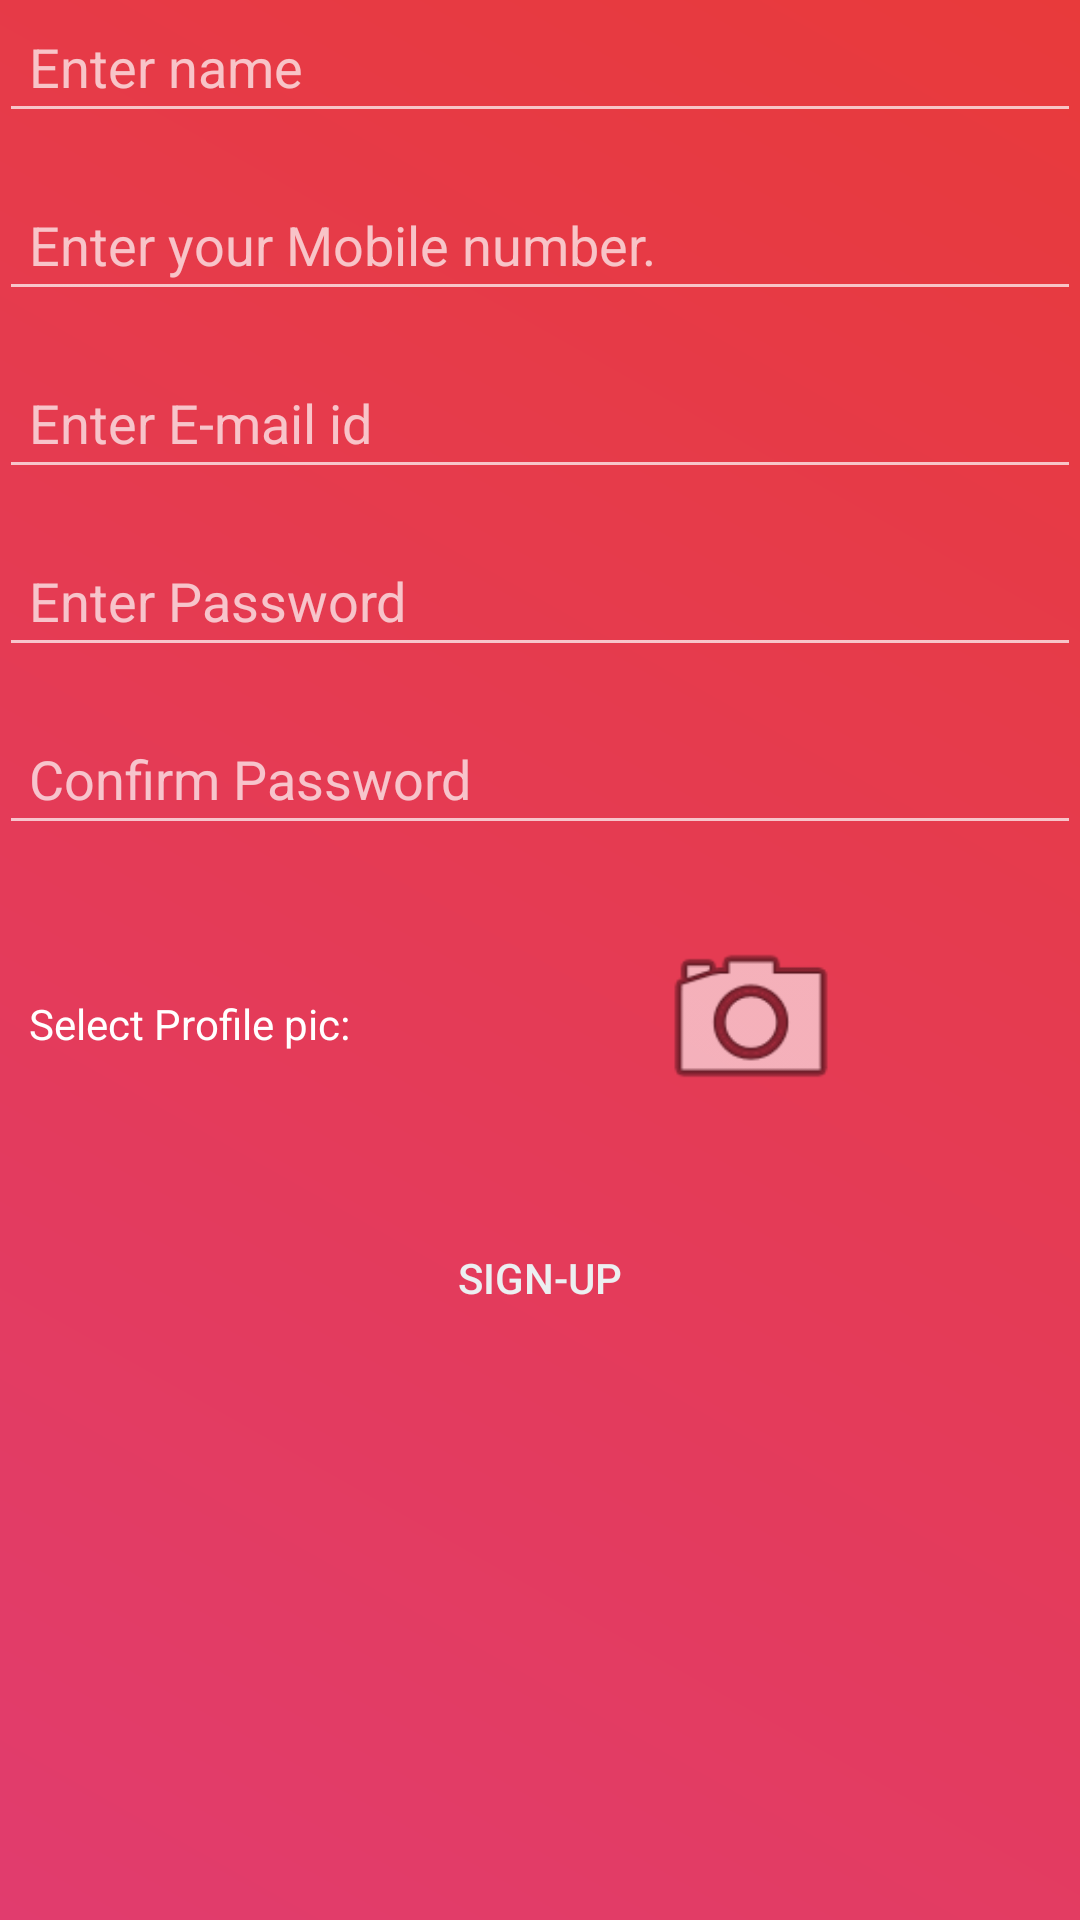

Locate icon controls on the screen. Image size 1080 × 1920, boxes as [x1=x1, y1=y1, x2=x2, y2=y2].
camera: [x1=674, y1=955, x2=828, y2=1077]
